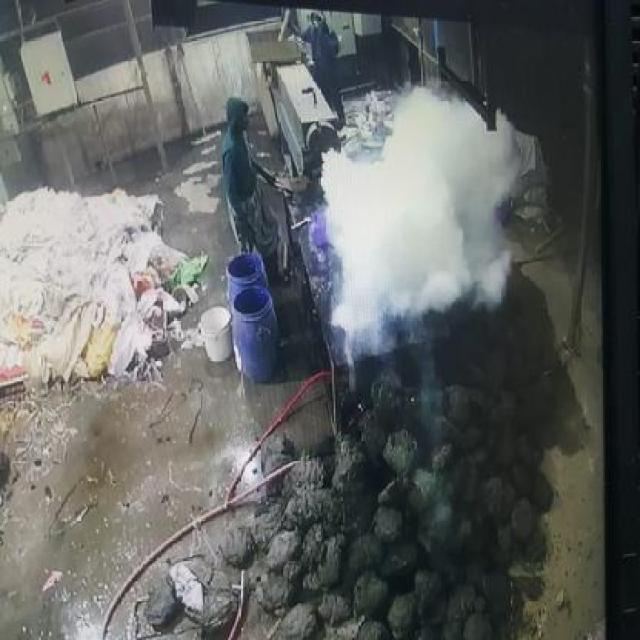fire: (318, 85, 520, 362)
